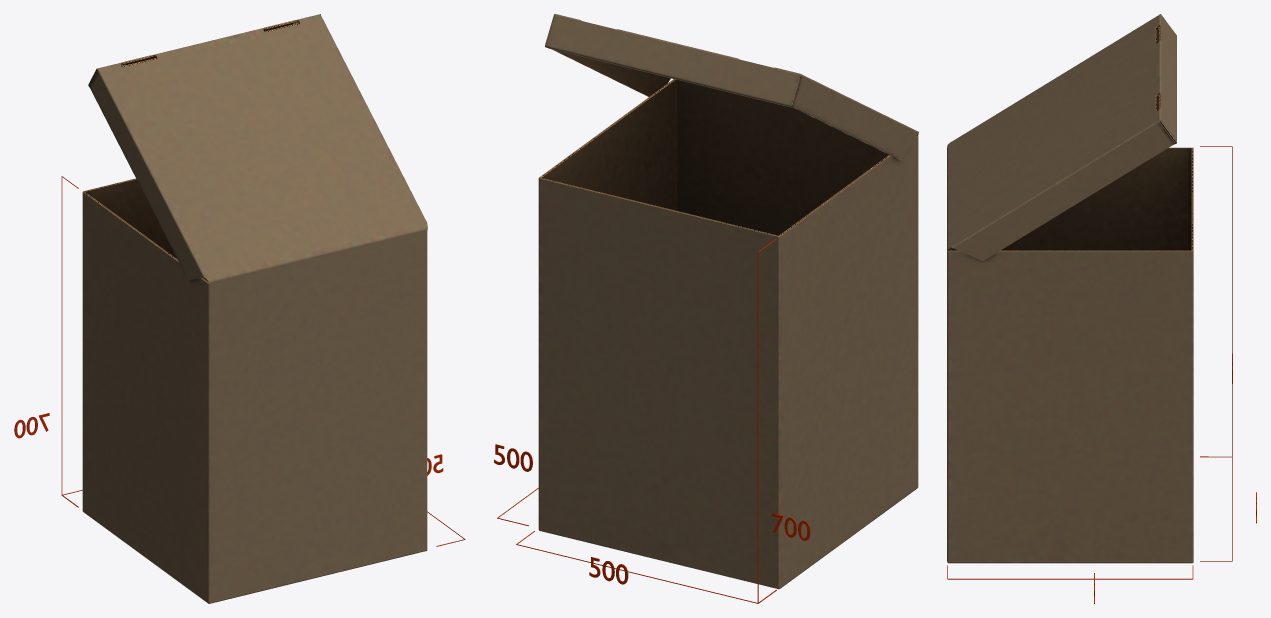
Rendered from AMAZON.glb.
3 renders of one model, left to right at view 1: azimuth 30°, elevation 25°; view 2: azimuth 150°, elevation 25°; view 3: azimuth 270°, elevation 25°, orthographic. The views are drawn at different scales.
Parts seen in each view (by area): view 1: CAJA_DISPENSADORA---para_artios_ARD-node, Plano.002; view 2: CAJA_DISPENSADORA---para_artios_ARD-node, Plano.002; view 3: CAJA_DISPENSADORA---para_artios_ARD-node, Plano.001.
Part boxes in pixels (x1,y1,x2,y2): CAJA_DISPENSADORA---para_artios_ARD-node: (82,14,427,603); Plano.002: (61,176,78,507); CAJA_DISPENSADORA---para_artios_ARD-node: (538,14,918,589); Plano.002: (757,238,776,603); CAJA_DISPENSADORA---para_artios_ARD-node: (947,14,1193,563); Plano.001: (947,565,1193,579).
Size of the model in its own units: 0.8202 by 1 by 0.6318.
Materials: 4 (3 with a texture image).
